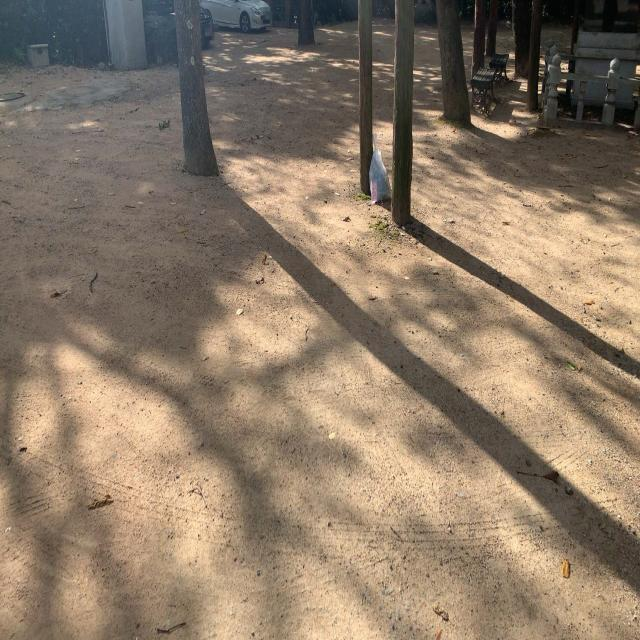garbage bag: (367, 144, 393, 206)
